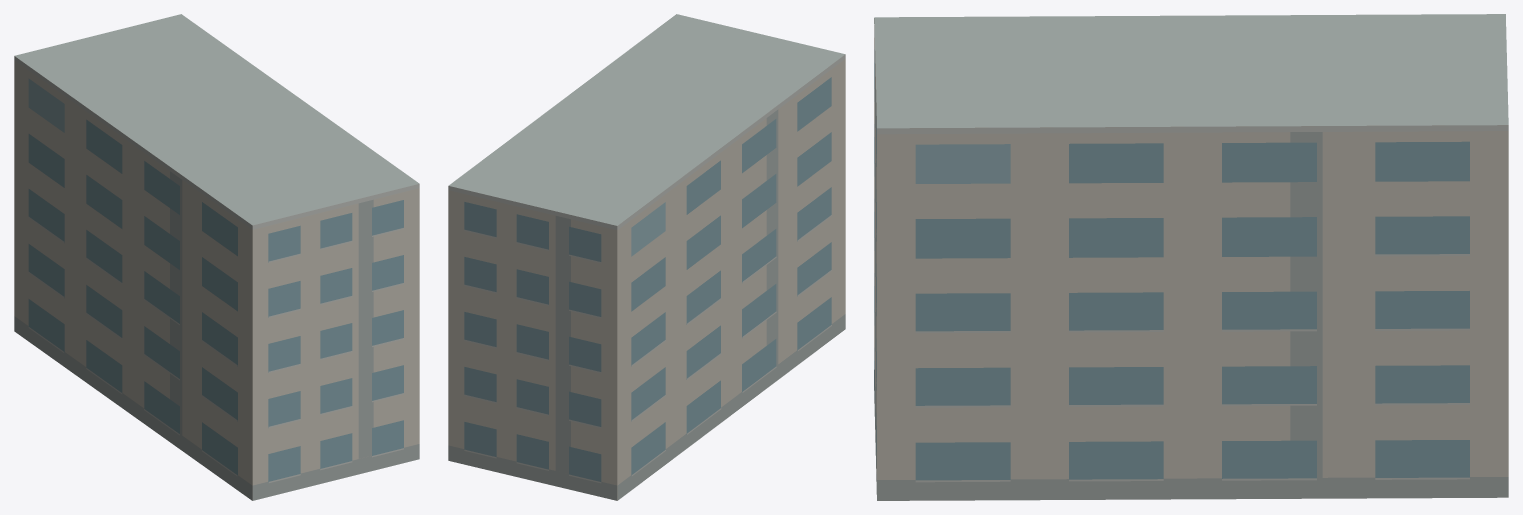
Rendered from survey-upis-32610837.glb.
The picture shows the model from 3 angles, left to right: view 1: azimuth 30°, elevation 25°; view 2: azimuth 150°, elevation 25°; view 3: azimuth 270°, elevation 25°; orthographic projection. The views are drawn at different scales.
Visible parts, largest first — view 1: survey-upis-32610837.tmp; view 2: survey-upis-32610837.tmp; view 3: survey-upis-32610837.tmp.
Part boxes in pixels (bbox=[...]): survey-upis-32610837.tmp: bbox=[14, 14, 419, 500]; survey-upis-32610837.tmp: bbox=[448, 14, 845, 500]; survey-upis-32610837.tmp: bbox=[874, 14, 1508, 500].
Bounding box in the file's own units: 10.04 × 15.25 × 23.54.
